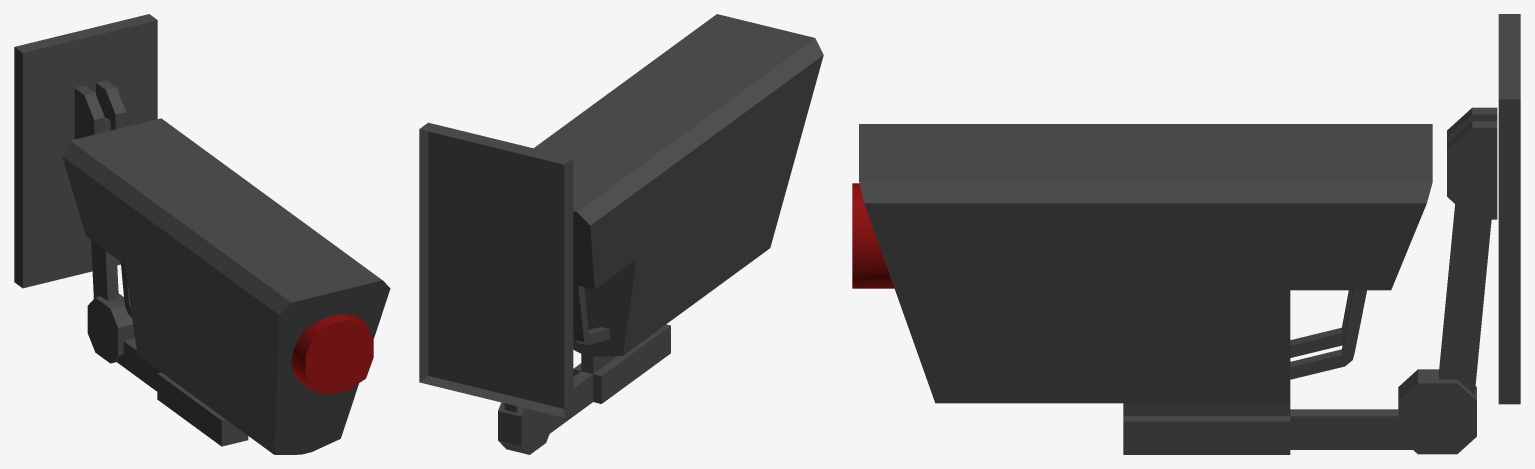
File: SM_Camera_BO.fbx
The picture shows the model from 3 angles, left to right: view 1: azimuth 30°, elevation 25°; view 2: azimuth 150°, elevation 25°; view 3: azimuth 270°, elevation 25°; orthographic projection. The views are drawn at different scales.
Parts seen in each view (by area): view 1: SM_Camera_Blockout; view 2: SM_Camera_Blockout; view 3: SM_Camera_Blockout.
Boxes of the visible parts, x1,y1,x2,y2 form: SM_Camera_Blockout: (14,14,390,454); SM_Camera_Blockout: (419,14,823,454); SM_Camera_Blockout: (852,14,1520,454).
Bounding box in the file's own units: 45 × 96.09 × 149.
